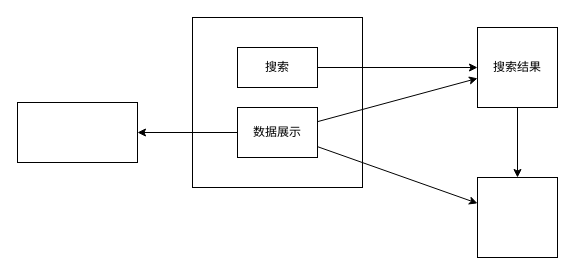
Some shapes in this 575 by 275 pixel diagram are drawn without their labels. The centre of each missing label's shape, as x and y in pixels:
产品分析: the point at 517,217
开启分析: the point at 77,132
